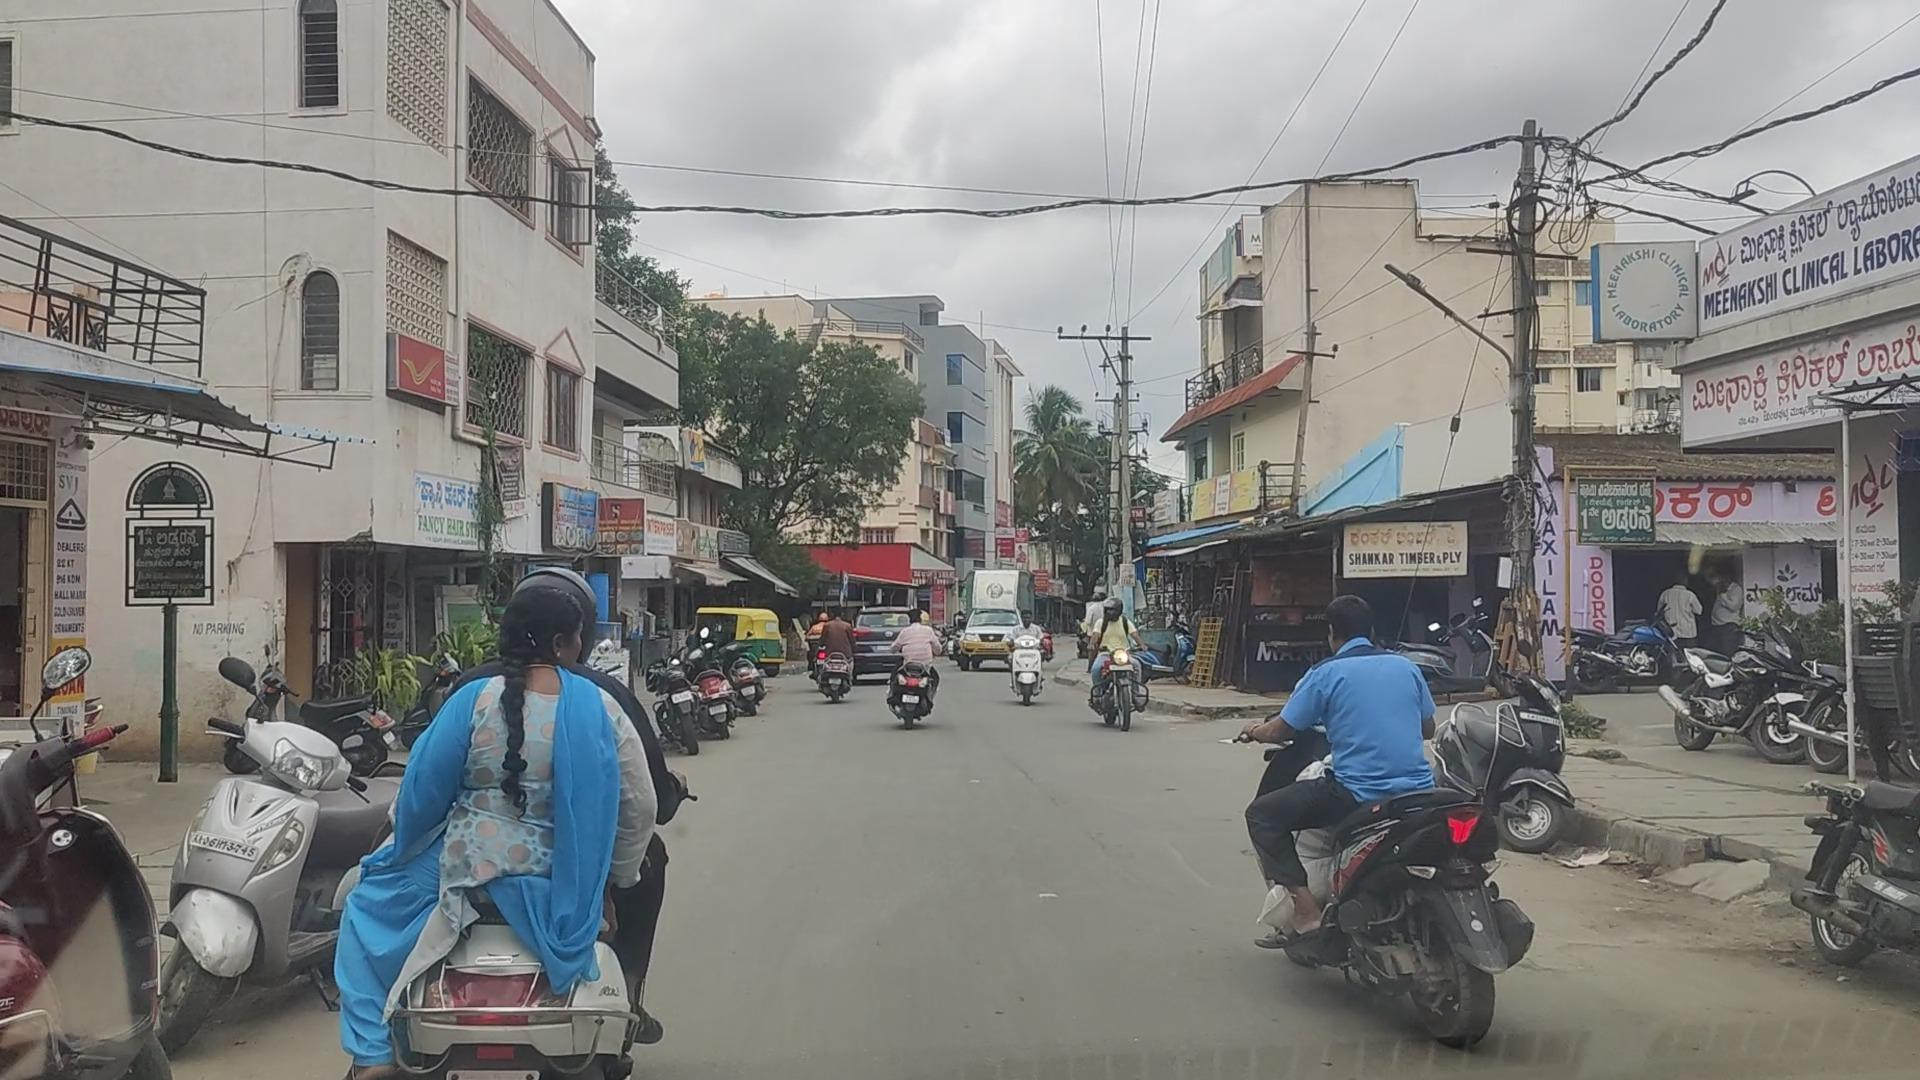LMV: (1247, 611, 1515, 1047), (442, 582, 644, 1058), (878, 609, 935, 748)
